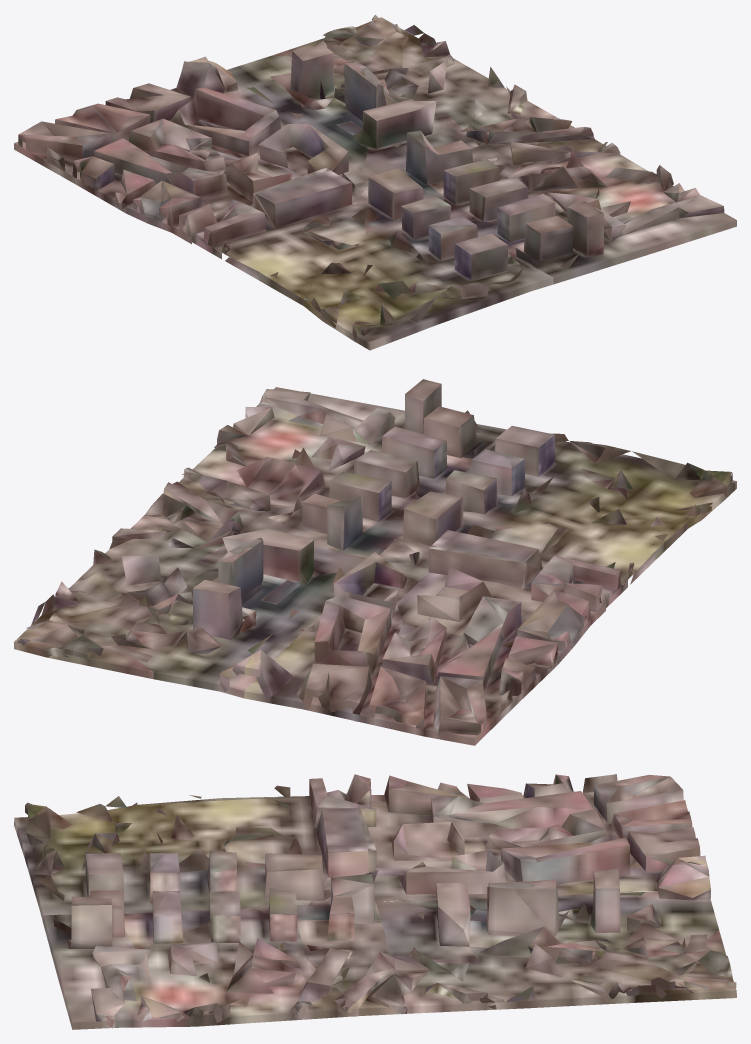
3 views of the same model, one above another, from view 1: azimuth 30°, elevation 25°; view 2: azimuth 150°, elevation 25°; view 3: azimuth 270°, elevation 25° (orthographic). The views are drawn at different scales.
Visible parts, largest first — view 1: Mesh_0; view 2: Mesh_0; view 3: Mesh_0.
Part boxes in pixels (left/top/right/bottom): Mesh_0: left=14, top=14, right=736, bottom=350; Mesh_0: left=14, top=379, right=736, bottom=745; Mesh_0: left=14, top=774, right=736, bottom=1029.
Bounding box in the file's own units: 532 × 66.97 × 659.
2 materials, 2 textured.
